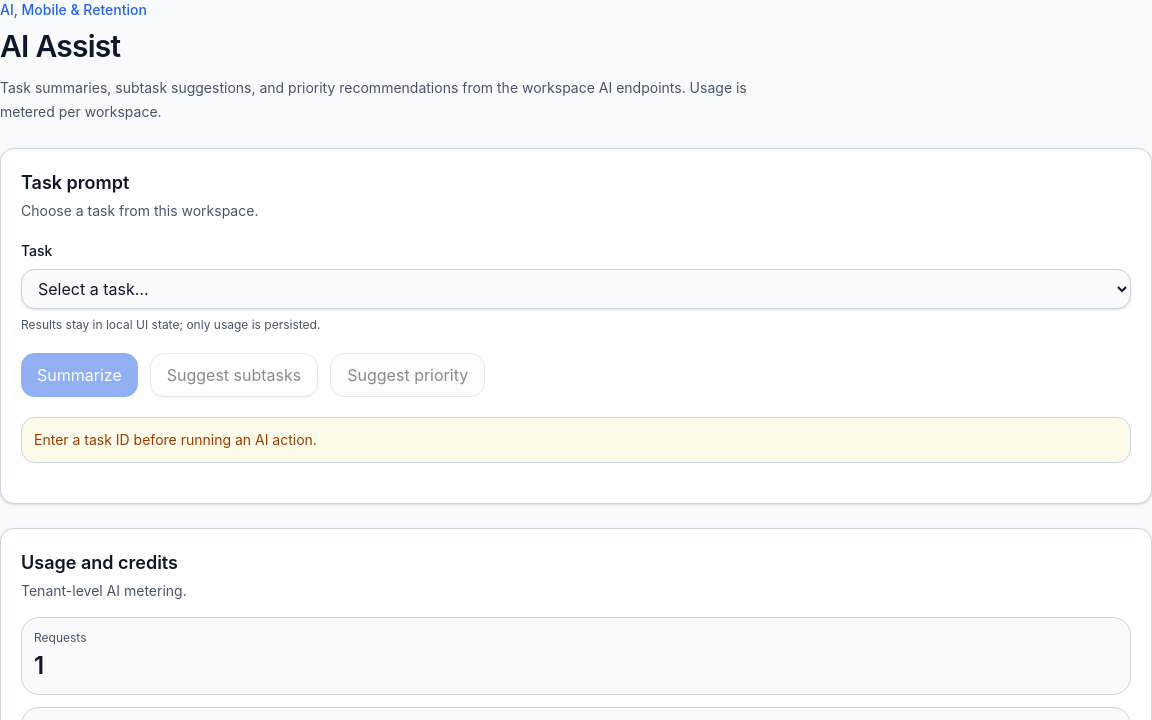
Scenario: AiAssistPanel subtask suggestions › Add selected creates one subtask per checked suggestion under the current task
Select "Ship feature" in the dropdown labelled "Task" at (576,289), box [21,269,1131,309]
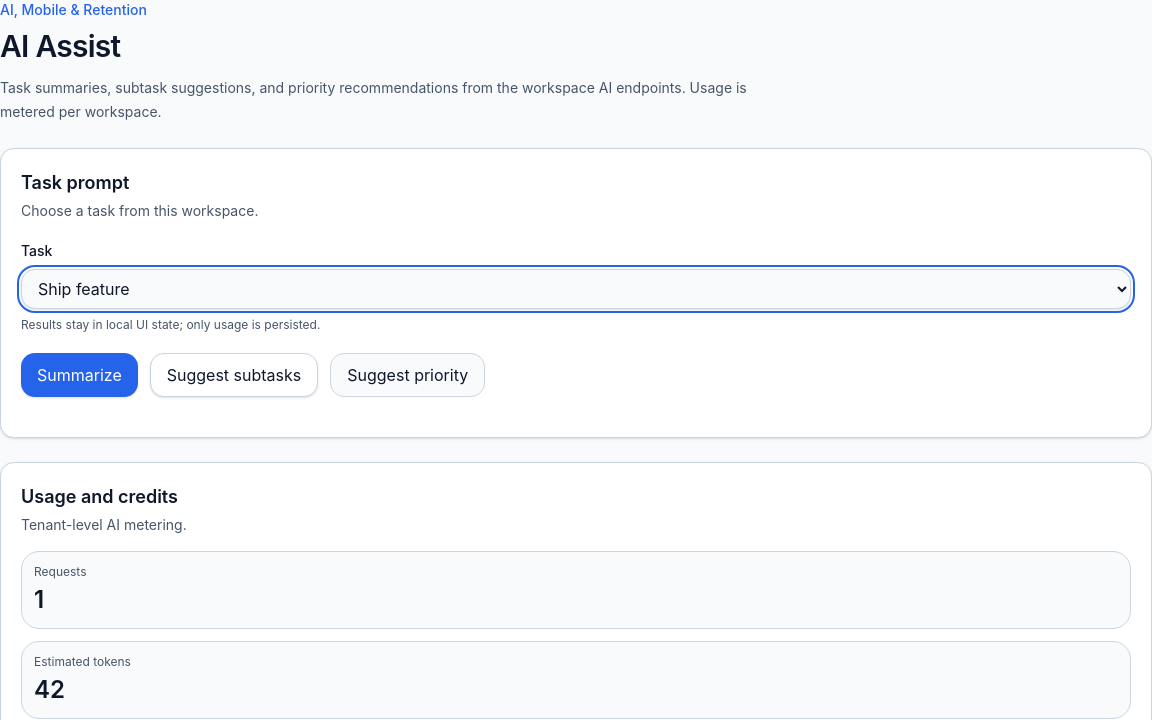
Click the button "Suggest subtasks".
click(234, 375)  # box [150,353,318,397]
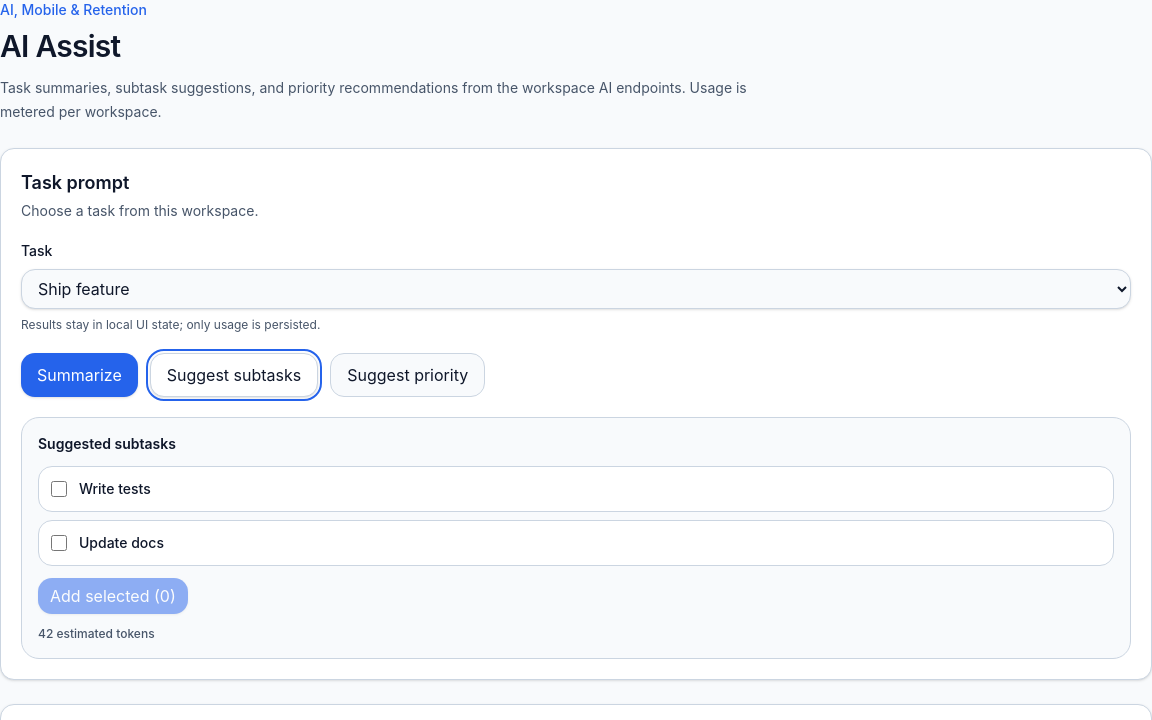
Check: the text "Write tests" is shown, box [79,479,151,499]
Click the checkbox labelled "Write tests".
click(59, 489)  # box [51,481,67,497]
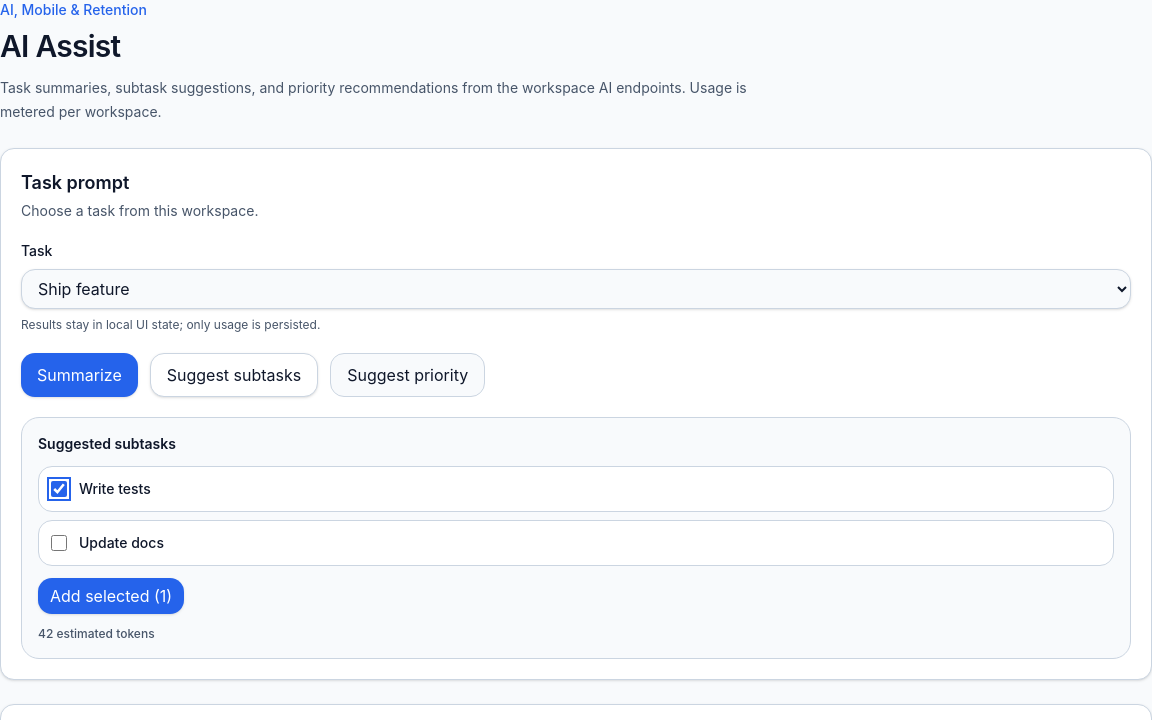
Click the checkbox labelled "Update docs".
click(59, 543)  # box [51,535,67,551]
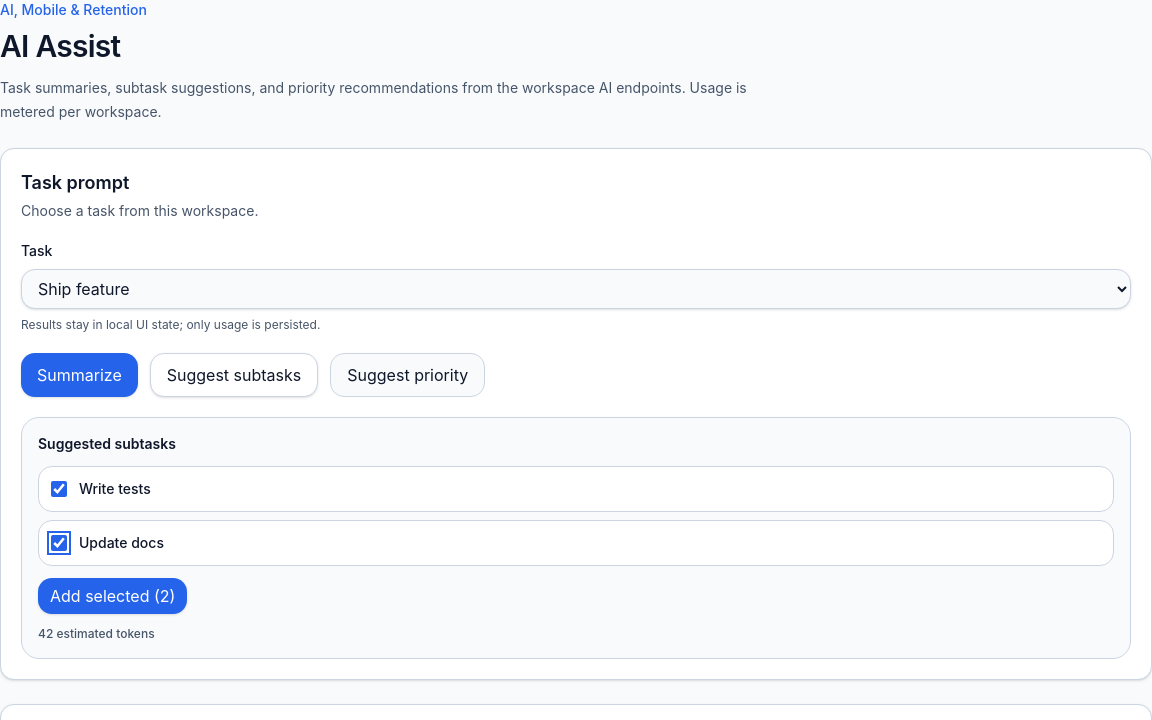
Click the button "Add selected (2)".
click(113, 596)  # box [38,578,187,614]
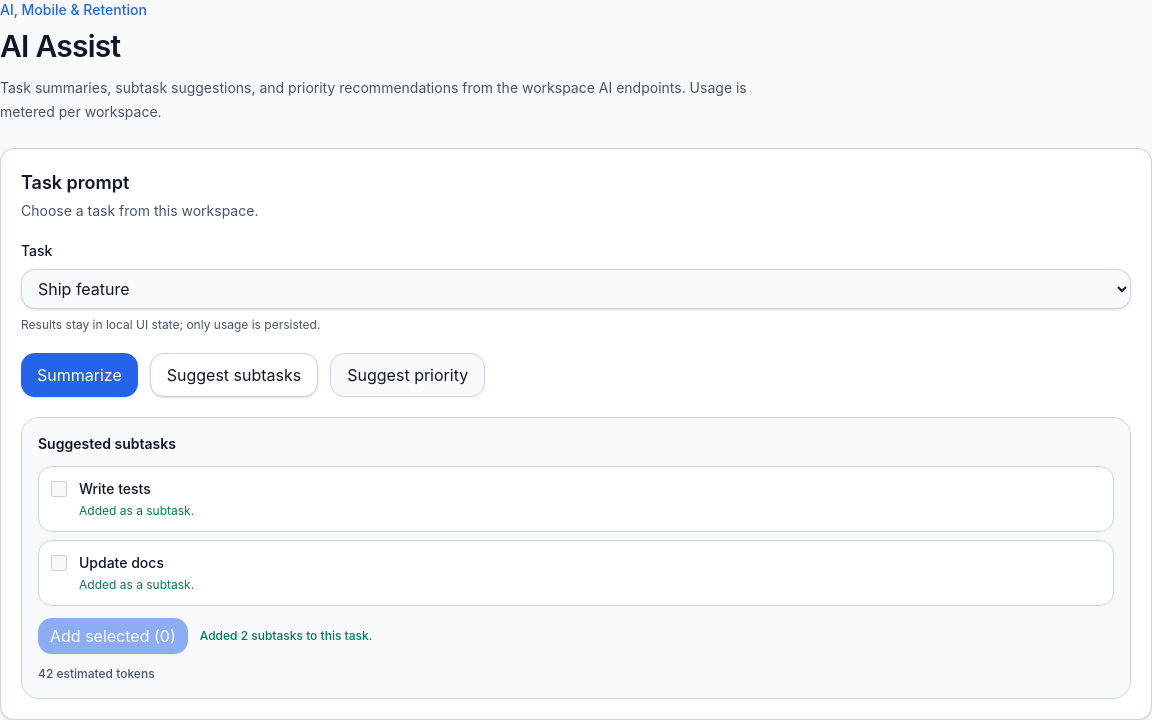
Check: the text "Added 2 subtasks to this task." is shown, box [200,628,372,644]
